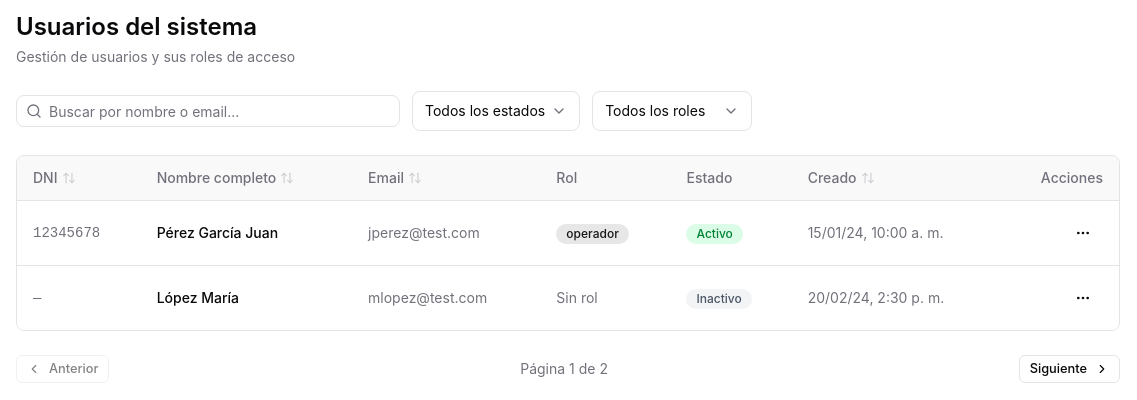
Test case: PaginaUsuarios › DropdownMenu solo muestra eliminar cuando no hay permiso editar
This screenshot has width=1137, height=400.
Click the button named "acciones para" at (1083, 233), box [1063,213,1103,253]
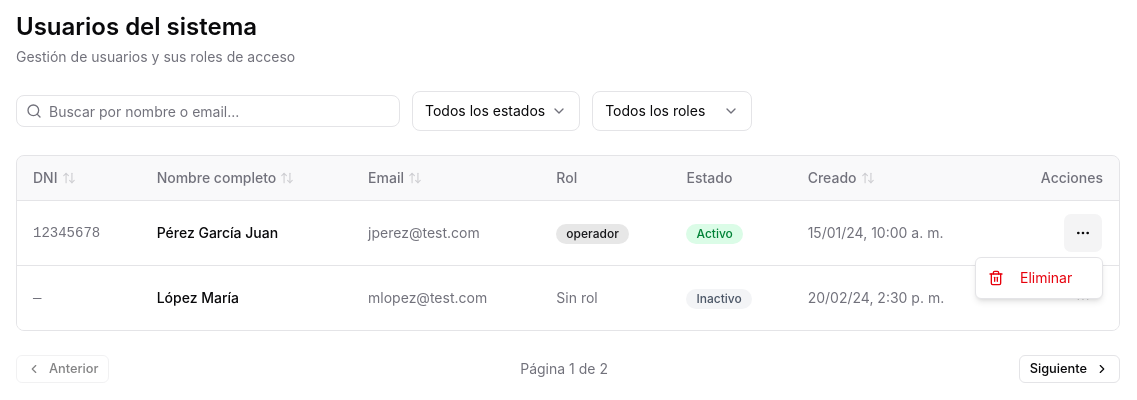
Check: the menu item "Eliminar" is shown, box [988,269,1072,286]
